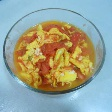fanqiechaojidan: (12, 21, 99, 91)
